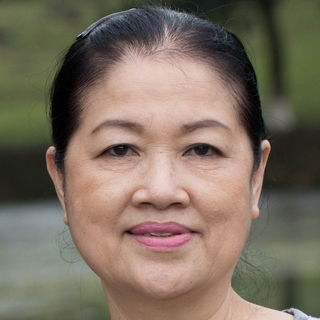eye: (177, 140, 228, 165), (92, 141, 143, 162)
